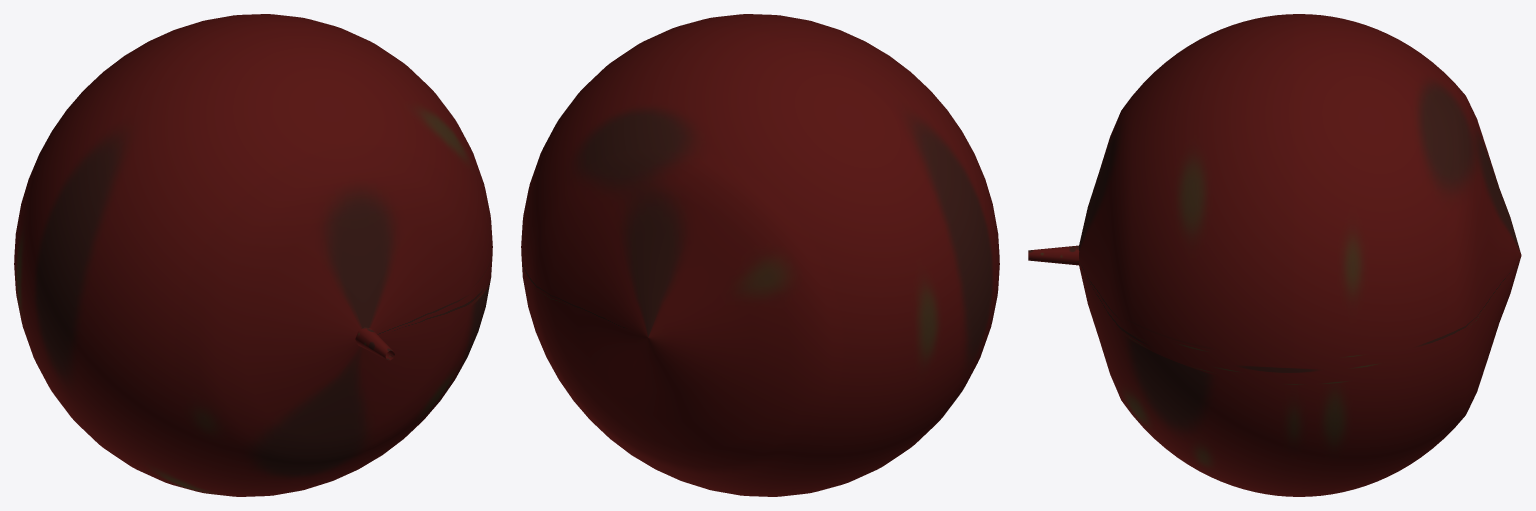
File: apple_08_v2.obj
3 views of the same model, side by side, from view 1: azimuth 30°, elevation 25°; view 2: azimuth 150°, elevation 25°; view 3: azimuth 270°, elevation 25° (orthographic).
Bounding box in the file's own units: 2 × 2 × 2.04.
1 material, 1 textured.
